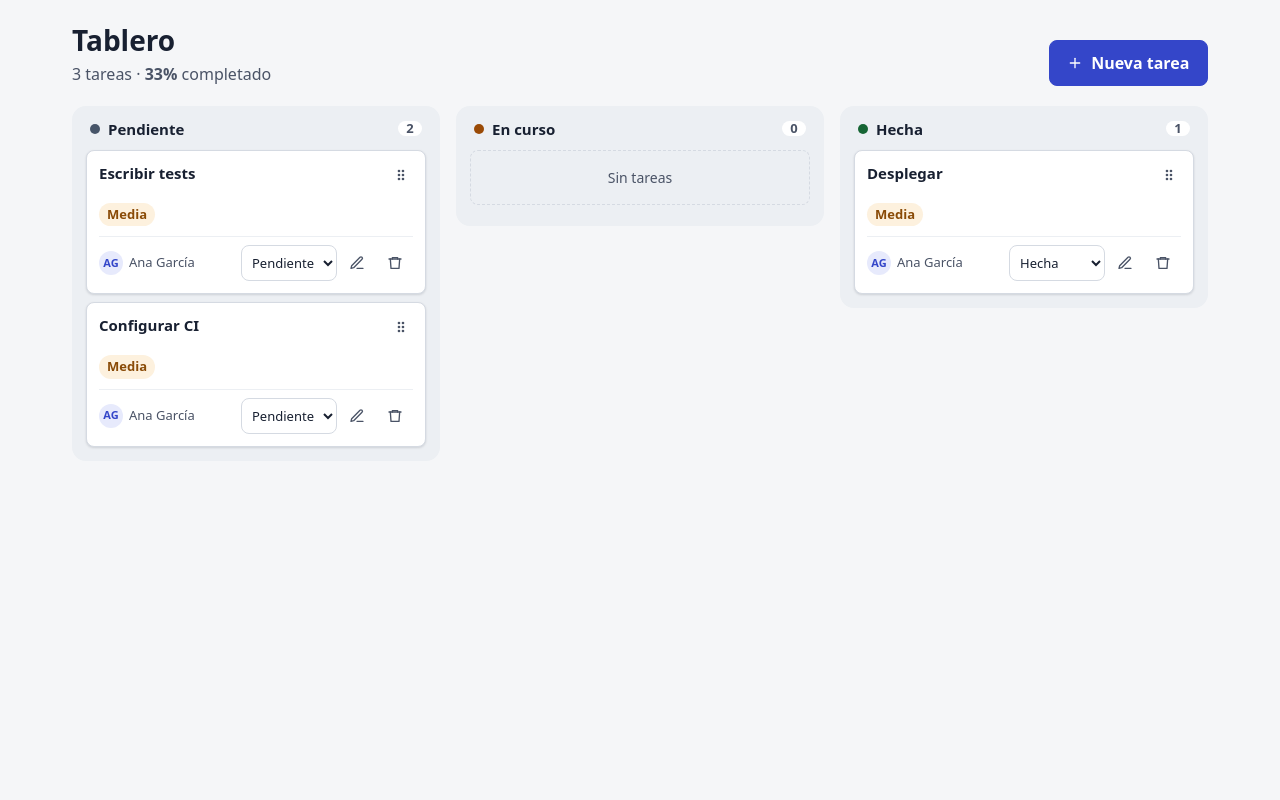
it: Tablero › si no se puede borrar, la tarea se queda y se avisa
Click the button named "Borrar «Configurar CI»" at (395, 416), box [377, 398, 413, 434]
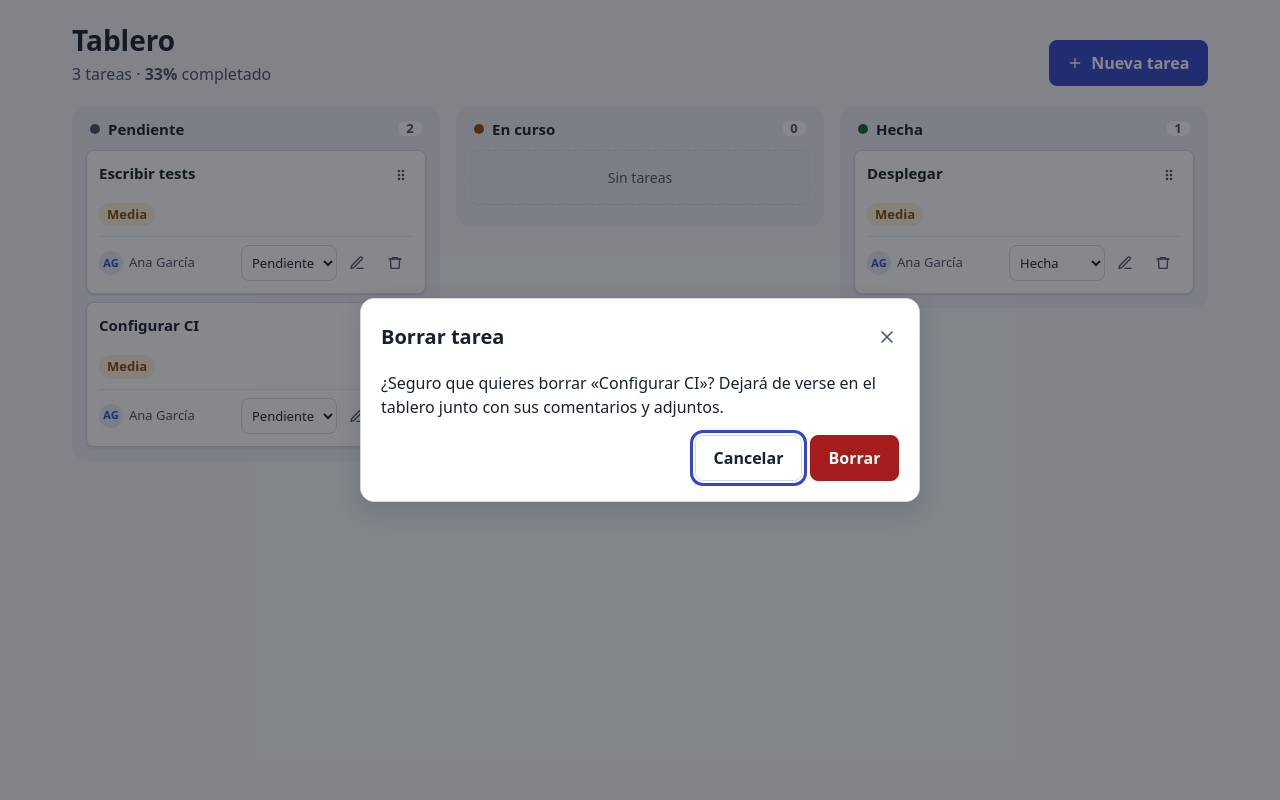
Click the button "Borrar" at (854, 458), box [810, 435, 899, 481]
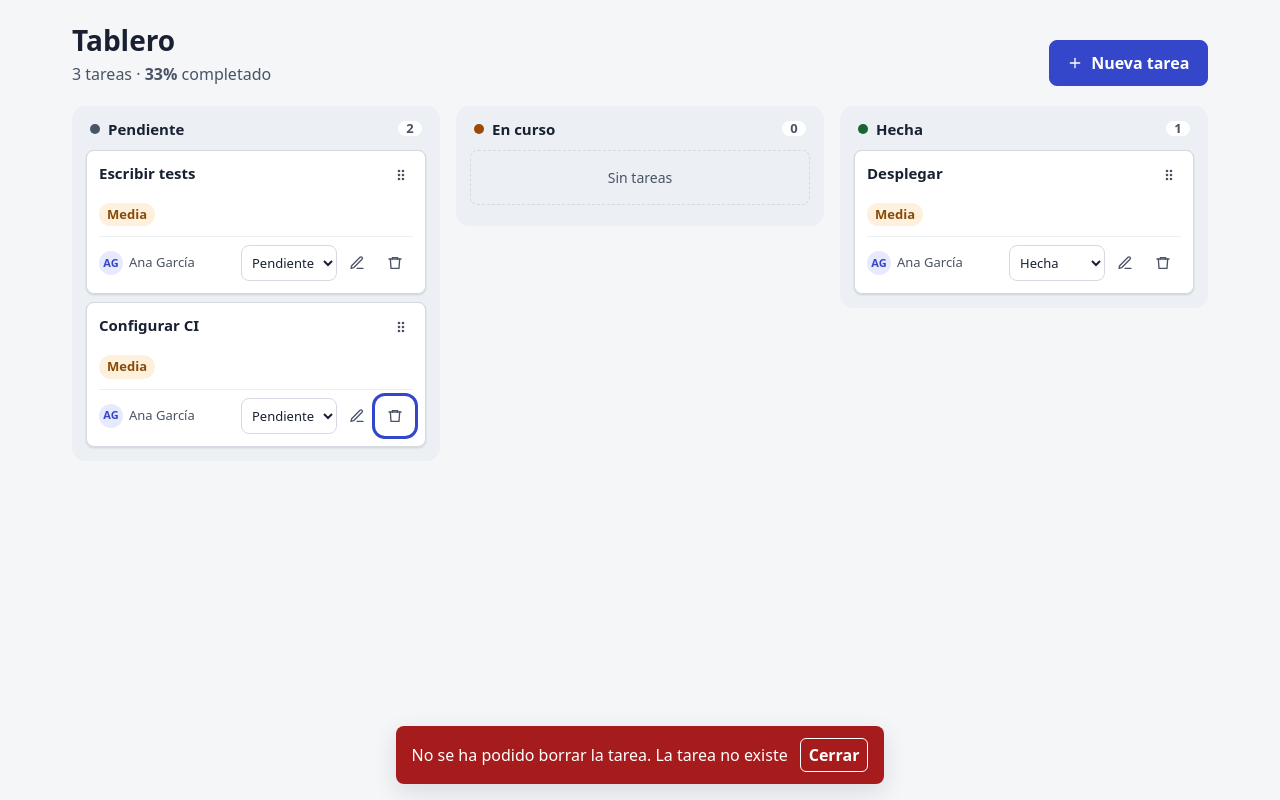
Expected: the link "Configurar CI" is shown, [99, 315, 199, 335]
Expected: the message shows "No se ha podido borrar la tarea. La tarea no existe", [412, 744, 788, 766]
